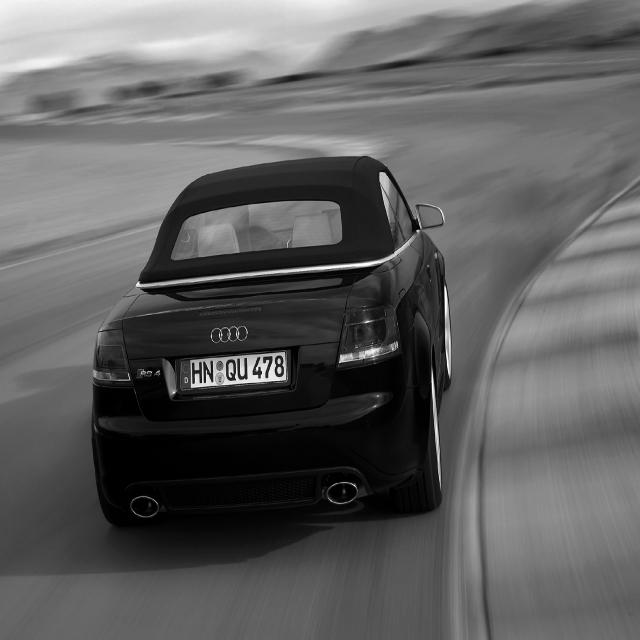car: (90, 154, 452, 527)
plat_license: (178, 349, 290, 391)
